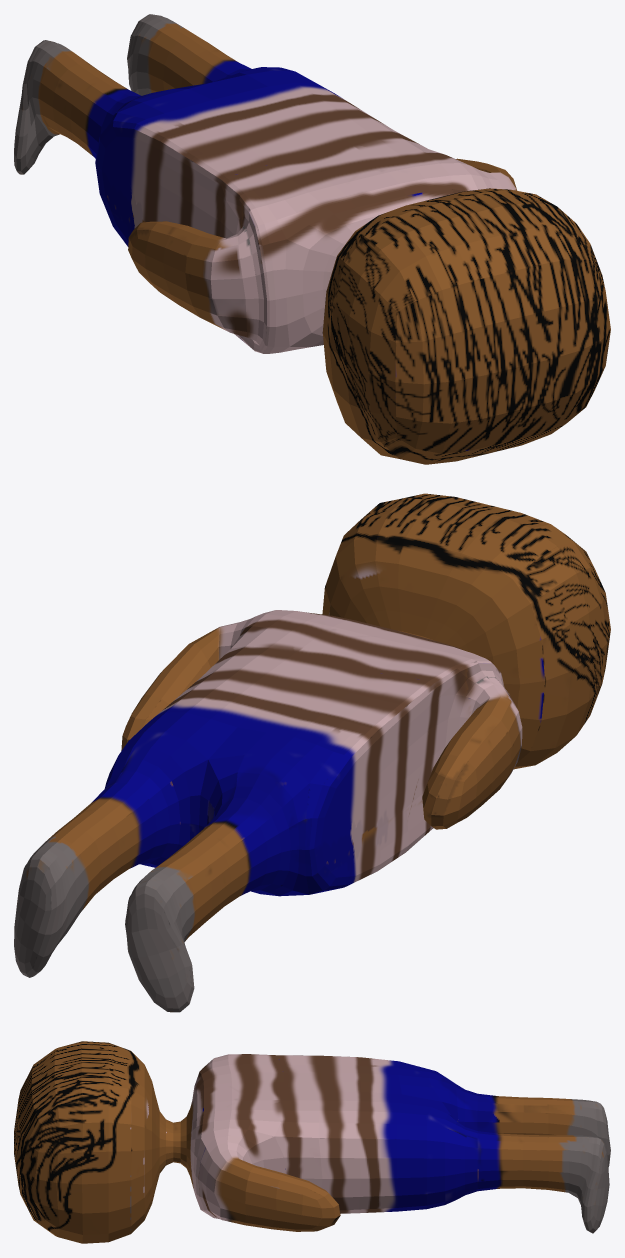
The model's file is antman_stand_9.obj.
3 renders of one model, top to bottom at view 1: azimuth 30°, elevation 25°; view 2: azimuth 150°, elevation 25°; view 3: azimuth 270°, elevation 25°, orthographic. The views are drawn at different scales.
Visible parts, largest first — view 1: Cube; view 2: Cube; view 3: Cube.
Boxes of the visible parts, x1,y1,x2,y2 form: Cube: (14,14,610,464); Cube: (14,493,610,1012); Cube: (14,1041,610,1243).
Size of the model in its own units: 0.8758 by 0.5834 by 1.93.
